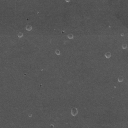corrosion: (69, 107, 79, 117), (103, 50, 112, 59), (117, 76, 125, 84), (25, 25, 33, 32), (66, 33, 74, 40), (53, 49, 61, 55), (122, 42, 128, 50), (17, 31, 23, 38)
